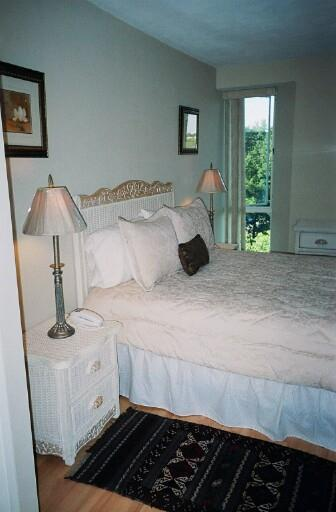Cama: (96, 209, 335, 451)
Ventana: (231, 95, 273, 245)
